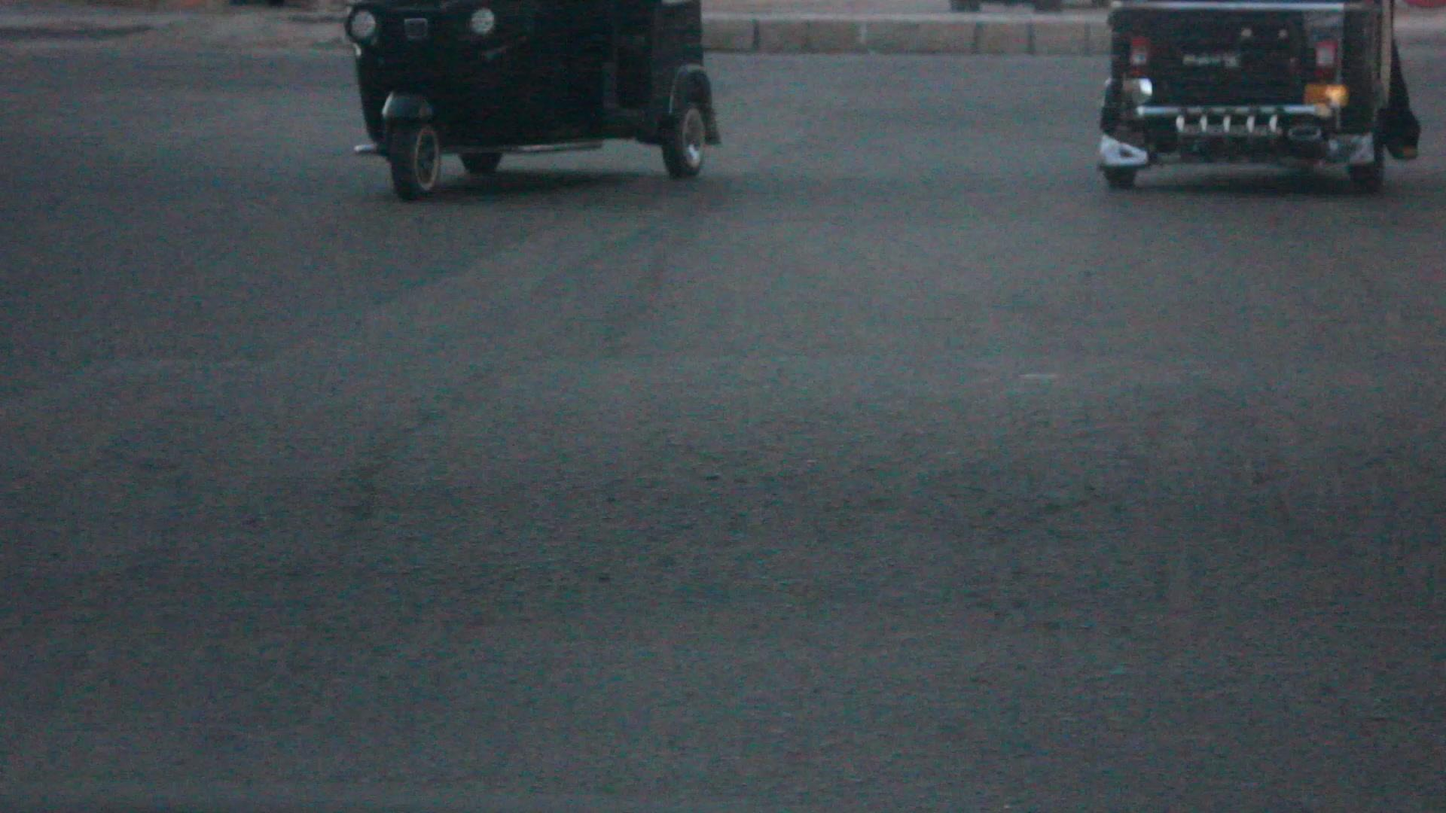Bump: (0, 354, 1445, 635)
